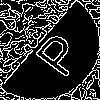P: (25, 25, 87, 80)
